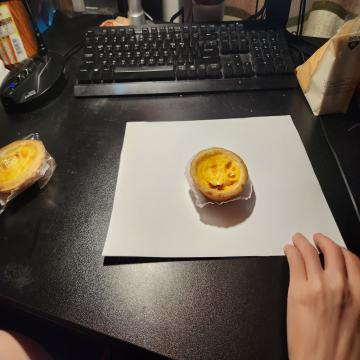EggTart: (190, 147, 247, 202)
